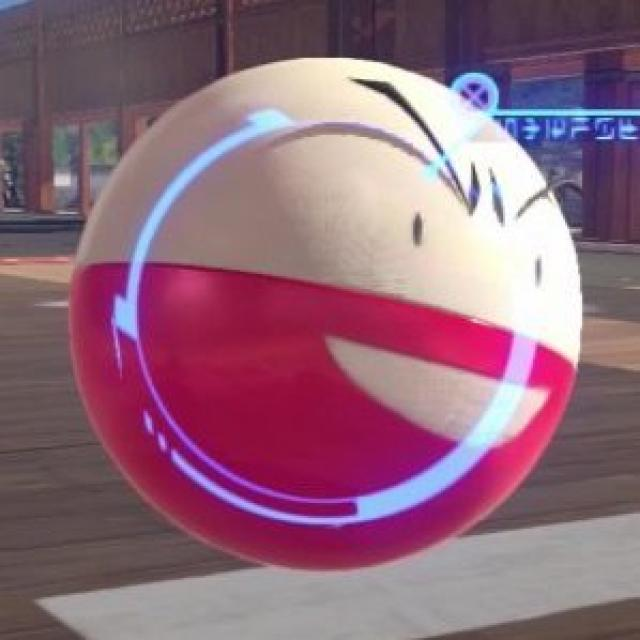Electrode: (67, 54, 586, 574)
